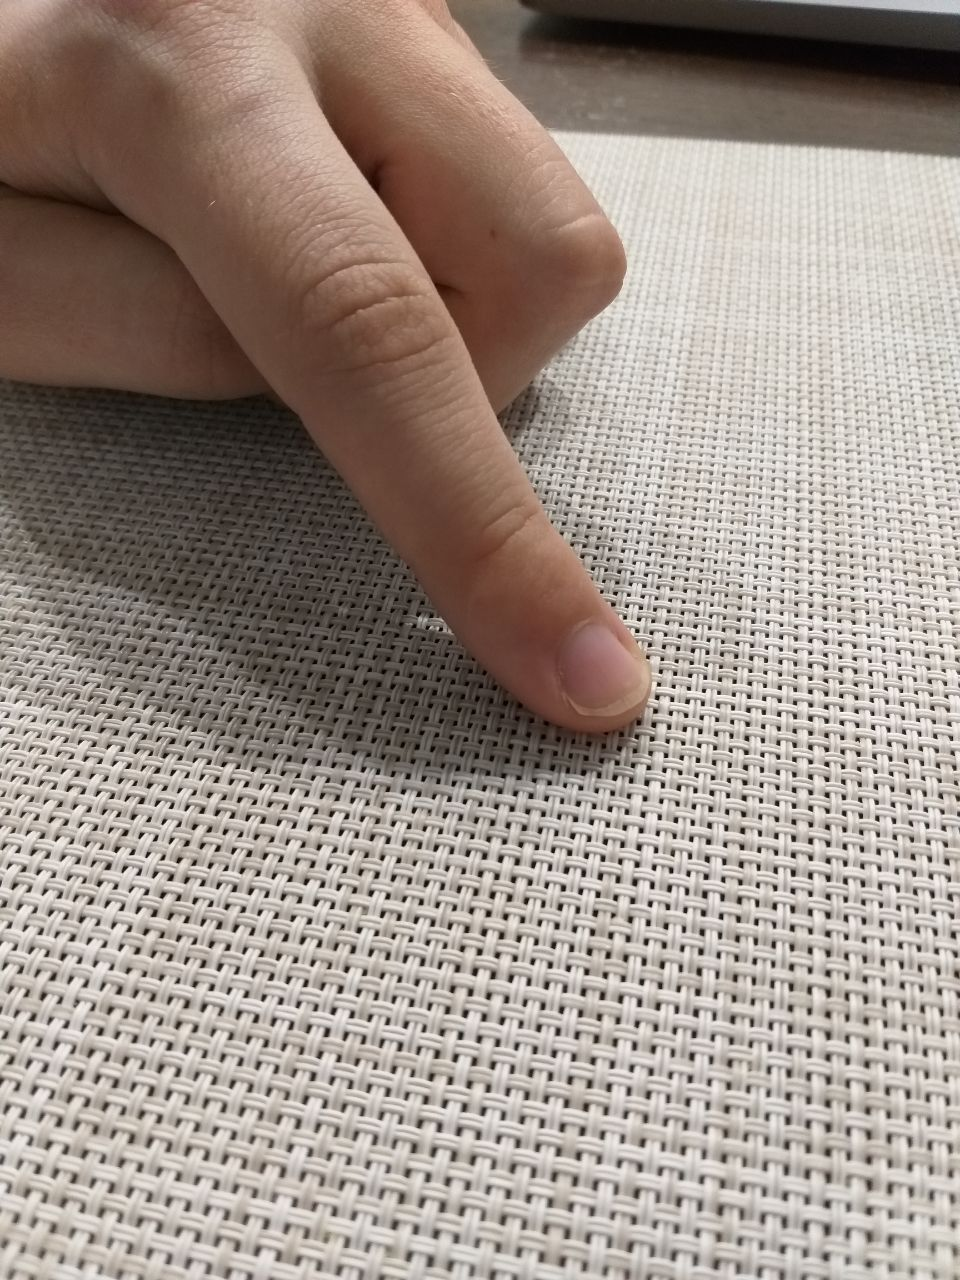finger: (506, 588, 651, 725)
